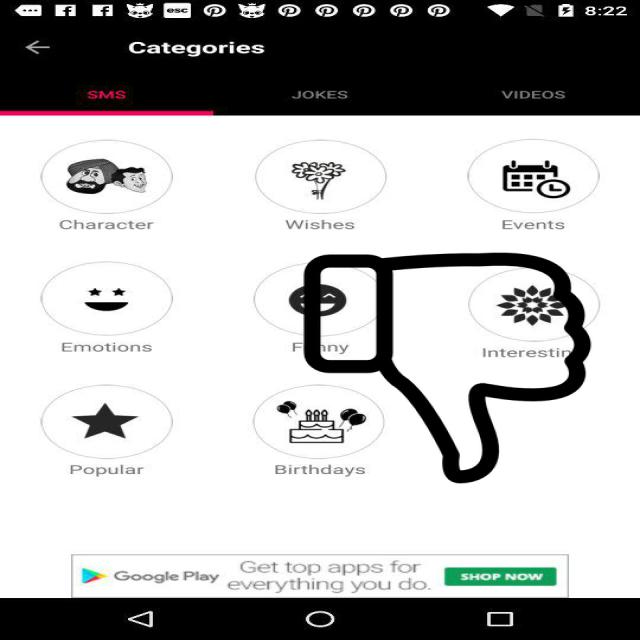obstruction: (300, 253, 595, 483)
